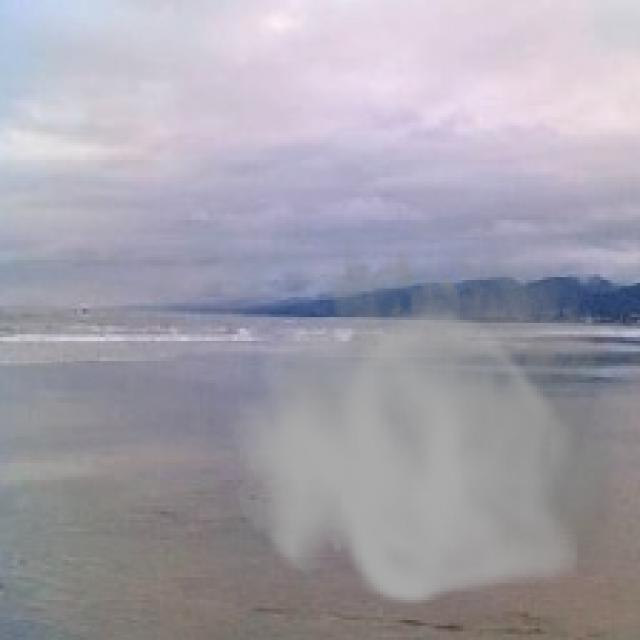smoke: (232, 203, 632, 611)
